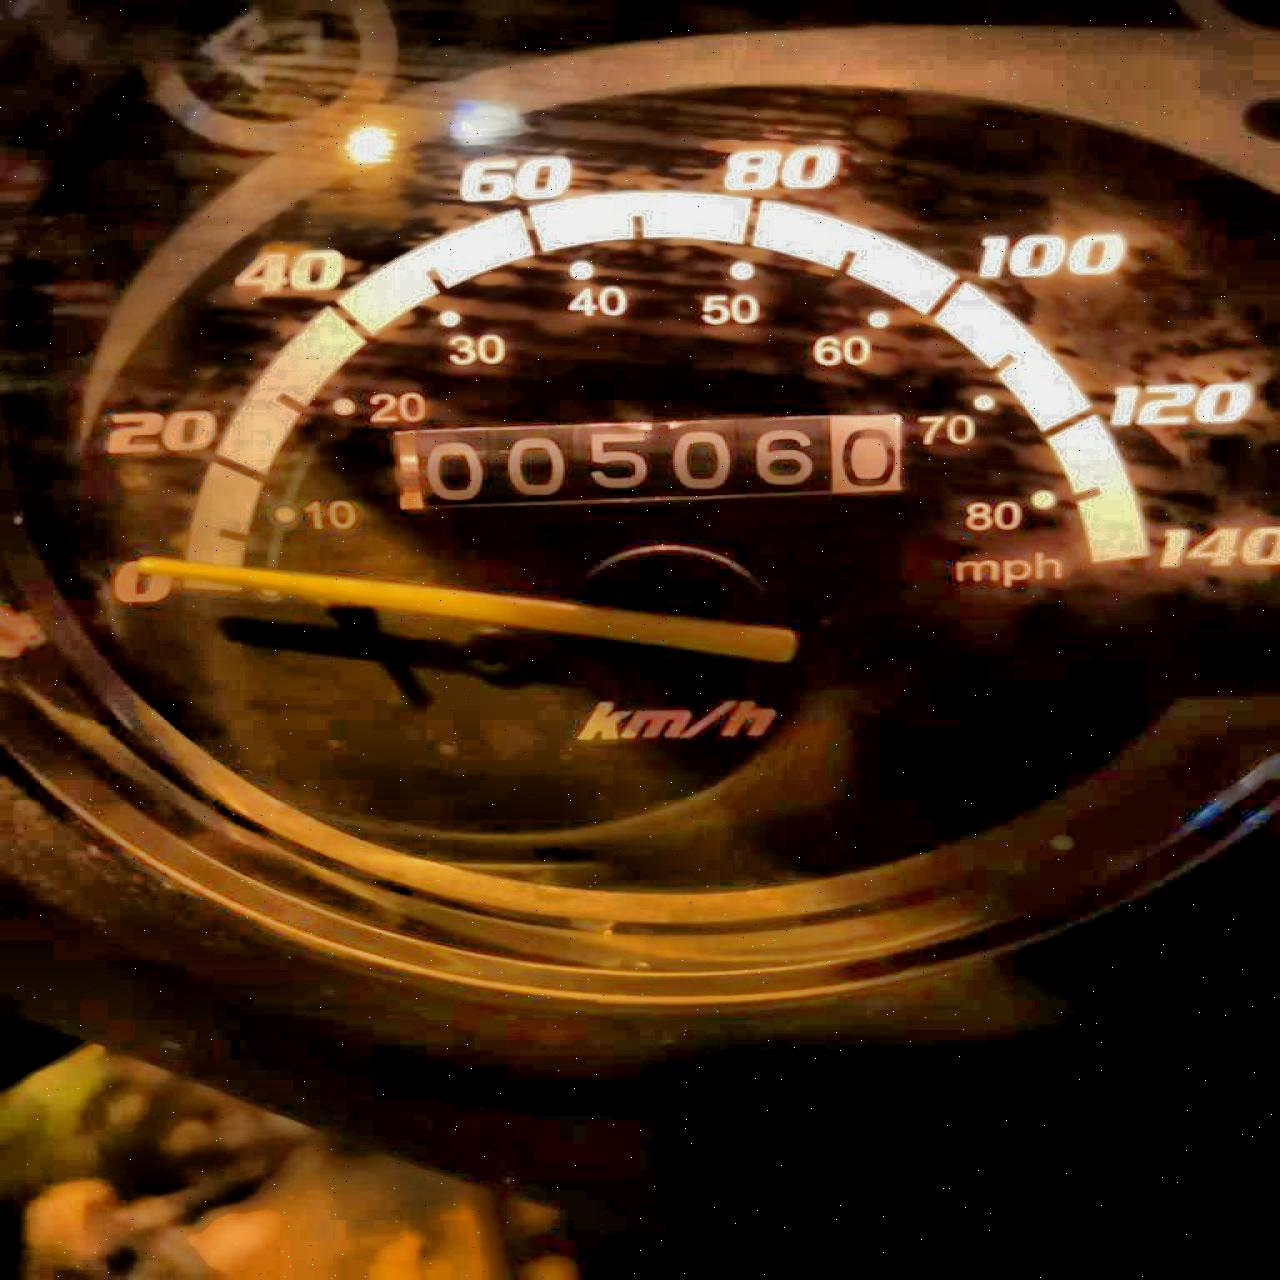0: (667, 427, 734, 491), (422, 437, 485, 502), (836, 423, 897, 489), (502, 434, 565, 496)
5: (580, 427, 652, 489)
6: (747, 423, 817, 489)
odometer: (387, 409, 908, 512)
